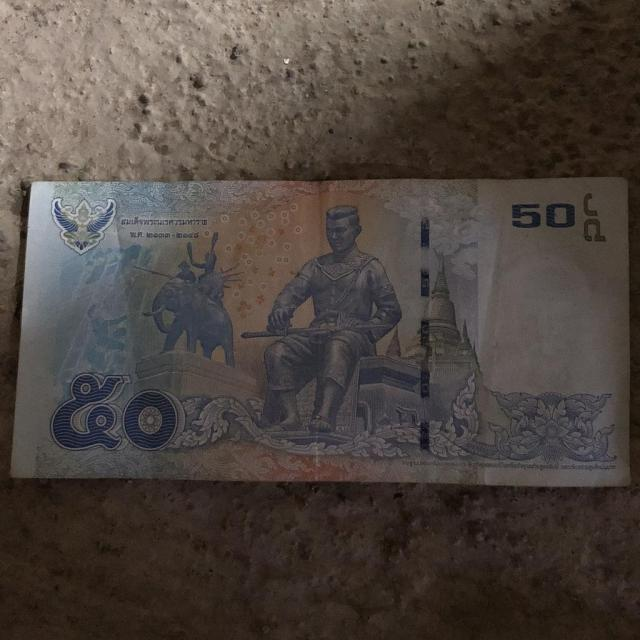THAI50: (11, 178, 629, 486)
